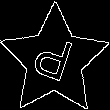P_S: (30, 31, 80, 90)
